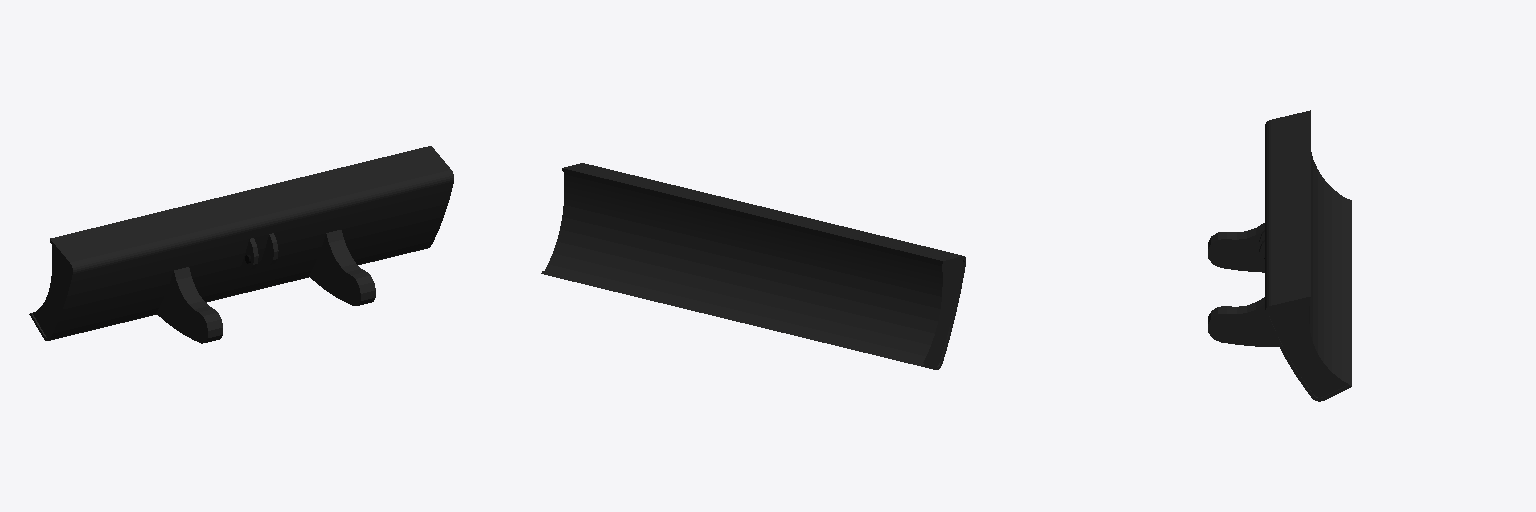
File: ExBlade.obj
3 renders of one model, left to right at view 1: azimuth 30°, elevation 25°; view 2: azimuth 150°, elevation 25°; view 3: azimuth 270°, elevation 25°, orthographic.
Parts seen in each view (by area): view 1: instance_0_ID4.001; view 2: instance_0_ID4.001; view 3: instance_0_ID4.001.
Boxes of the visible parts, box(x1,y1,x2,y2) form: instance_0_ID4.001: box(29, 146, 453, 343); instance_0_ID4.001: box(541, 163, 965, 369); instance_0_ID4.001: box(1208, 110, 1351, 401).
Bounding box in the file's own units: 2.5 × 0.6591 × 0.8209.